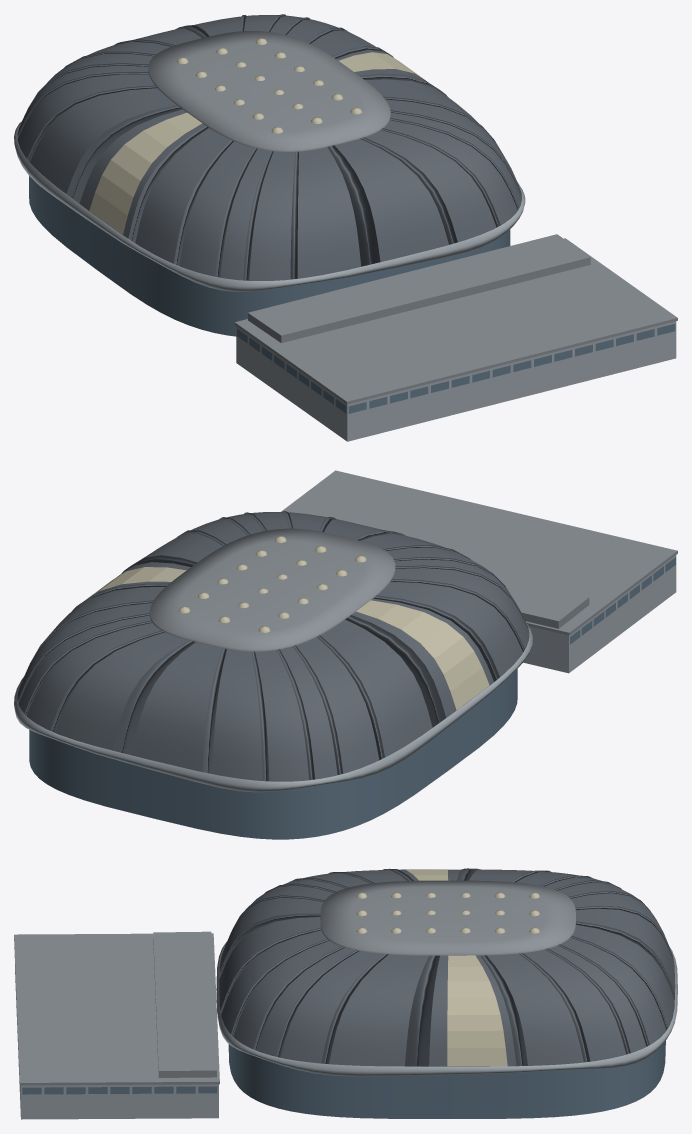
File: barcelona-palau-sant-jordi.glb
3 views of the same model, one above another, from view 1: azimuth 30°, elevation 25°; view 2: azimuth 150°, elevation 25°; view 3: azimuth 270°, elevation 25° (orthographic). The views are drawn at different scales.
Parts seen in each view (by area): view 1: Palau Sant Jordi; view 2: Palau Sant Jordi; view 3: Palau Sant Jordi.
Part boxes in pixels (bbox=[...]): Palau Sant Jordi: bbox=[14, 14, 677, 441]; Palau Sant Jordi: bbox=[14, 470, 677, 839]; Palau Sant Jordi: bbox=[14, 868, 677, 1119].
Bounding box in the file's own units: 111 × 42.3 × 192.
